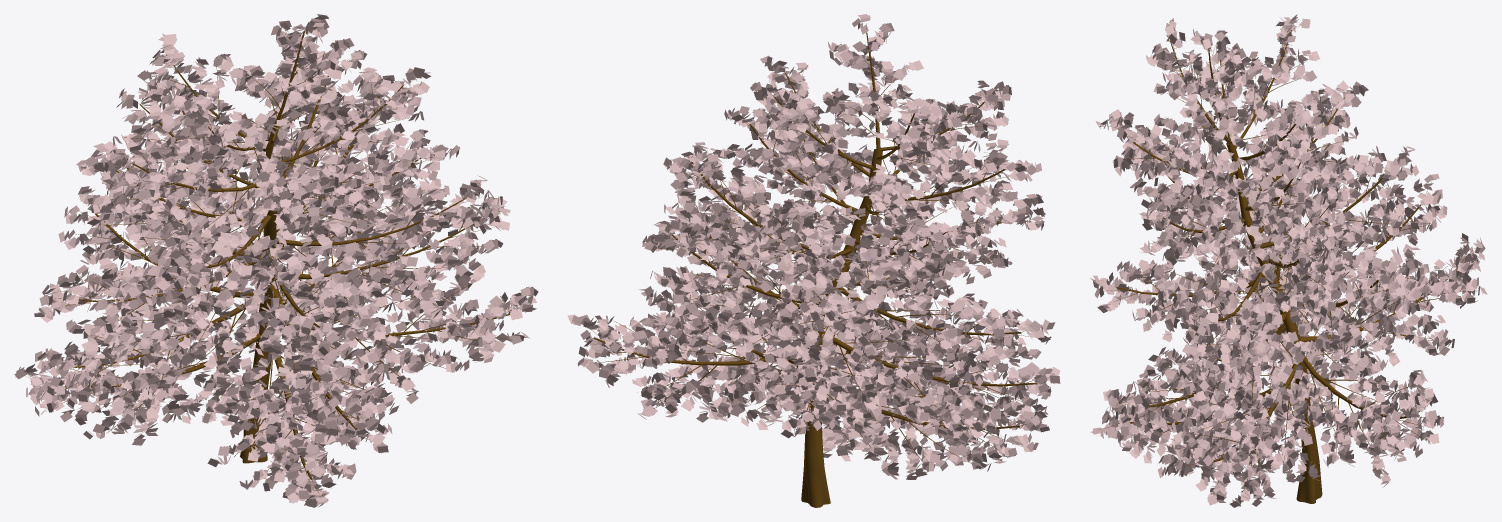
Rendered from Busch2 Neu.FBX.
The picture shows the model from 3 angles, left to right: view 1: azimuth 30°, elevation 25°; view 2: azimuth 150°, elevation 25°; view 3: azimuth 270°, elevation 25°; orthographic projection. The views are drawn at different scales.
Visible parts, largest first — view 1: Foliage006; view 2: Foliage006; view 3: Foliage006.
Part boxes in pixels (x1,y1,x2,y2): Foliage006: (14,14,538,507); Foliage006: (567,14,1060,507); Foliage006: (1090,14,1487,507).
Size of the model in its own units: 366 by 349 by 273.
